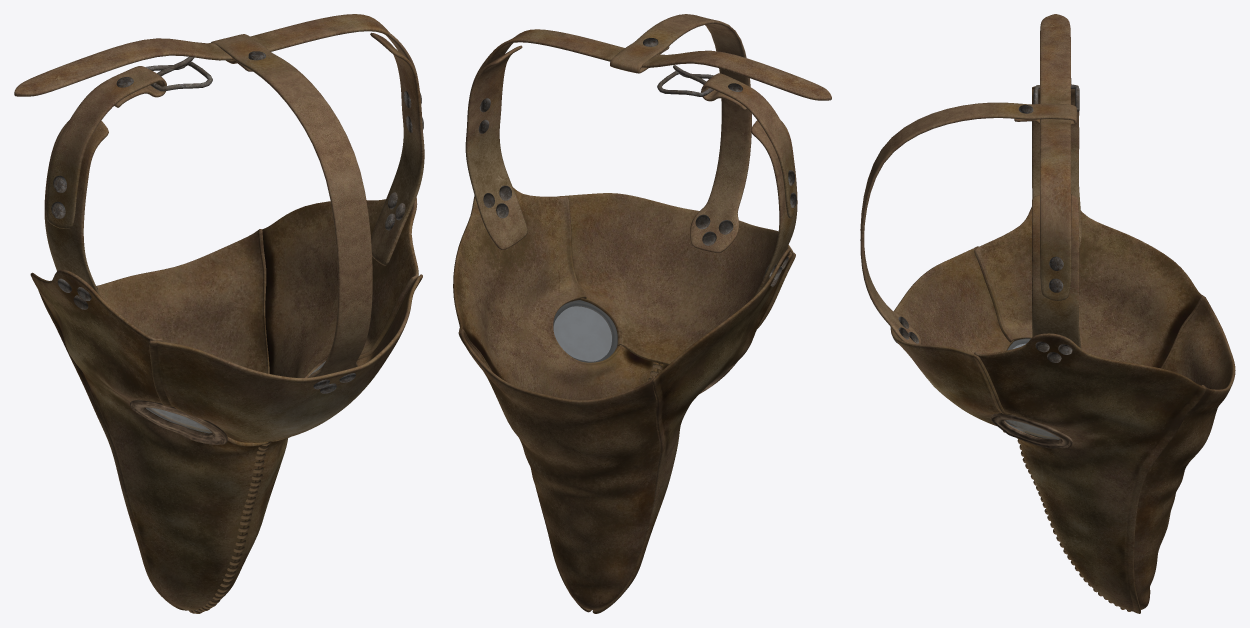
File: 13547_PlagueDoctorMask_v1_l1.obj
3 views of the same model, side by side, from view 1: azimuth 30°, elevation 25°; view 2: azimuth 150°, elevation 25°; view 3: azimuth 270°, elevation 25° (orthographic). The views are drawn at different scales.
Visible parts, largest first — view 1: 13547PlagueDoctorMask_face, 13547PlagueDoctorMask_ribbons, 13547PlagueDoctorMask_eyeR, 13547PlagueDoctorMask_rivet, 13547PlagueDoctorMask_clincher; view 2: 13547PlagueDoctorMask_face, 13547PlagueDoctorMask_ribbons, 13547PlagueDoctorMask_glassL, 13547PlagueDoctorMask_rivet, 13547PlagueDoctorMask_clincher, 13547PlagueDoctorMask_eyeL; view 3: 13547PlagueDoctorMask_face, 13547PlagueDoctorMask_ribbons, 13547PlagueDoctorMask_eyeL, 13547PlagueDoctorMask_rivet.
Part boxes in pixels (box(x1,y1,x2,y2)): 13547PlagueDoctorMask_face: box(30, 197, 422, 610); 13547PlagueDoctorMask_ribbons: box(14, 14, 424, 377); 13547PlagueDoctorMask_eyeR: box(130, 400, 227, 444); 13547PlagueDoctorMask_rivet: box(57, 192, 405, 393); 13547PlagueDoctorMask_clincher: box(145, 57, 212, 91); 13547PlagueDoctorMask_face: box(453, 187, 795, 613); 13547PlagueDoctorMask_ribbons: box(465, 14, 831, 296); 13547PlagueDoctorMask_glassL: box(553, 300, 617, 362); 13547PlagueDoctorMask_rivet: box(483, 185, 788, 286); 13547PlagueDoctorMask_clincher: box(657, 65, 713, 96); 13547PlagueDoctorMask_eyeL: box(553, 300, 617, 362); 13547PlagueDoctorMask_face: box(890, 207, 1235, 613); 13547PlagueDoctorMask_ribbons: box(860, 14, 1081, 348); 13547PlagueDoctorMask_eyeL: box(990, 413, 1072, 448); 13547PlagueDoctorMask_rivet: box(893, 316, 1072, 362).
Bounding box in the file's own units: 45.64 × 66.31 × 43.51.
5 materials, 5 textured.
